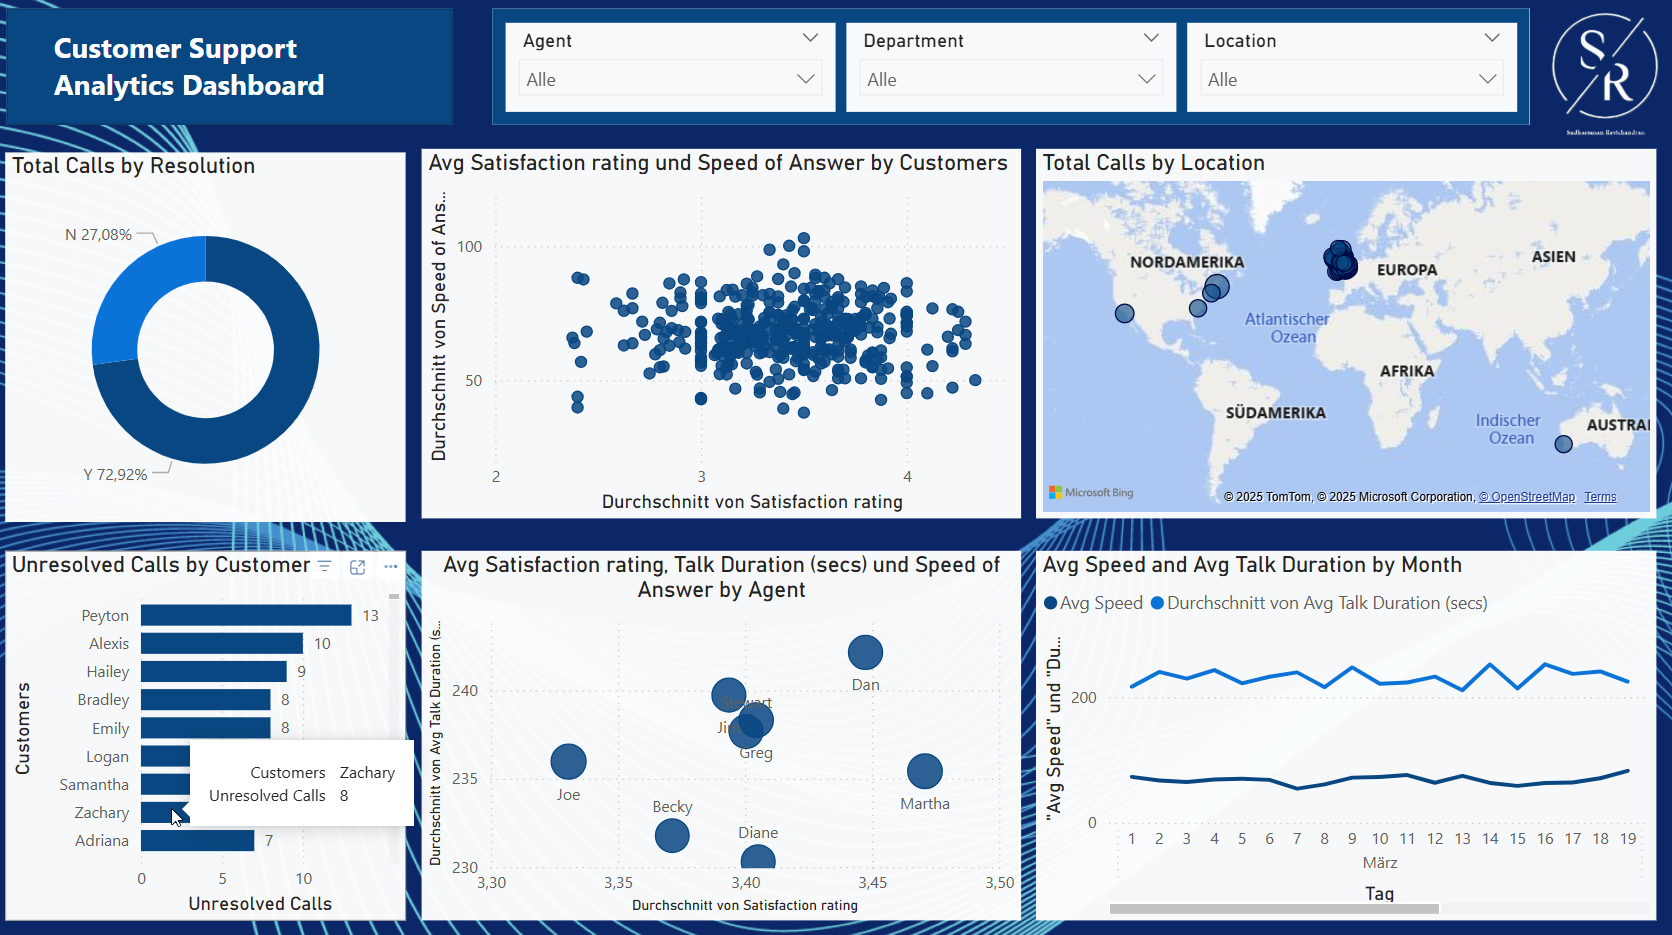

The page's visual inventory and layout, read from the dashboard file:
{"tool":"powerbi","page":{"name":"Call Metrics","canvas":[1280,720],"ordinal":1},"visuals":[{"type":"lineChart","title":"Avg Speed and Avg Talk Duration by Month","fields":{"Category":["Call-Center.Date.Variation.Datumshierarchie.Monat","Call-Center.Date.Variation.Datumshierarchie.Tag"],"Y":["Tabelle.Avg Speed","Call-Center.Avg Talk Duration (secs)"]},"box":[790.9,421.8,470,280],"z":0},{"type":"scatterChart","title":"Avg Satisfaction rating und Speed of Answer by Customers","fields":{"Category":["Call-Center.Customers"],"X":["Call-Center.Satisfaction rating"],"Y":["Call-Center.Speed of Answer"]},"box":[325.1,117.7,454.5,280],"z":1000},{"type":"scatterChart","title":"Avg Satisfaction rating, Talk Duration (secs) und Speed of Answer by Agent","fields":{"Category":["Call-Center.Agent"],"X":["Call-Center.Satisfaction rating"],"Y":["Call-Center.Avg Talk Duration (secs)"],"Size":["Call-Center.Speed of Answer"]},"box":[325.5,421.8,454.5,280],"z":2000},{"type":"clusteredBarChart","title":"Unresolved Calls by Customers","fields":{"Category":["Call-Center.Customers"],"Y":["Tabelle.Unresolved Calls"]},"box":[10,421.8,303.6,280],"z":3000},{"type":"donutChart","title":"Total Calls by Resolution","fields":{"Category":["Call-Center.Resolved"],"Y":["Tabelle.Total rows"]},"box":[10,120,303.6,280],"z":4000},{"type":"map","title":"Total Calls by Location","fields":{"Size":["Tabelle.Total rows"],"Category":["Call-Center.Location"]},"box":[790.9,117.3,470,280],"z":5000},{"type":"image","box":[1164.2,0,114.7,120],"z":6000},{"type":"shape","box":[10.9,10.9,338.2,88.2],"z":7000},{"type":"shape","box":[379.1,10.9,785.5,88.2],"z":8000},{"type":"slicer","fields":{"Values":["Call-Center.Agent"]},"box":[389.1,21.8,250,67.3],"z":9000},{"type":"slicer","fields":{"Values":["Call-Center.Department"]},"box":[647.3,21.8,250,67.3],"z":10000},{"type":"slicer","fields":{"Values":["Call-Center.Location"]},"box":[905.5,21.8,250,67.3],"z":11000},{"type":"textbox","box":[41.8,20,276.4,67.3],"z":12000}]}

Visuals, with their boxes in screenshot pixels (x1, y1, x2, y2), scaled from the page's 1280x720 canvas onto the 1672x935 screenshot:
"Avg Speed and Avg Talk Duration by Month" lineChart: 1033 548 1647 911
"Avg Satisfaction rating und Speed of Answer by Customers" scatterChart: 425 153 1018 516
"Avg Satisfaction rating, Talk Duration (secs) und Speed of Answer by Agent" scatterChart: 425 548 1019 911
"Unresolved Calls by Customers" clusteredBarChart: 13 548 410 911
"Total Calls by Resolution" donutChart: 13 156 410 519
"Total Calls by Location" map: 1033 152 1647 516
image: 1521 0 1671 156
shape: 14 14 456 129
shape: 495 14 1521 129
slicer - Call-Center.Agent: 508 28 835 116
slicer - Call-Center.Department: 846 28 1172 116
slicer - Call-Center.Location: 1183 28 1509 116
textbox: 55 26 416 113
